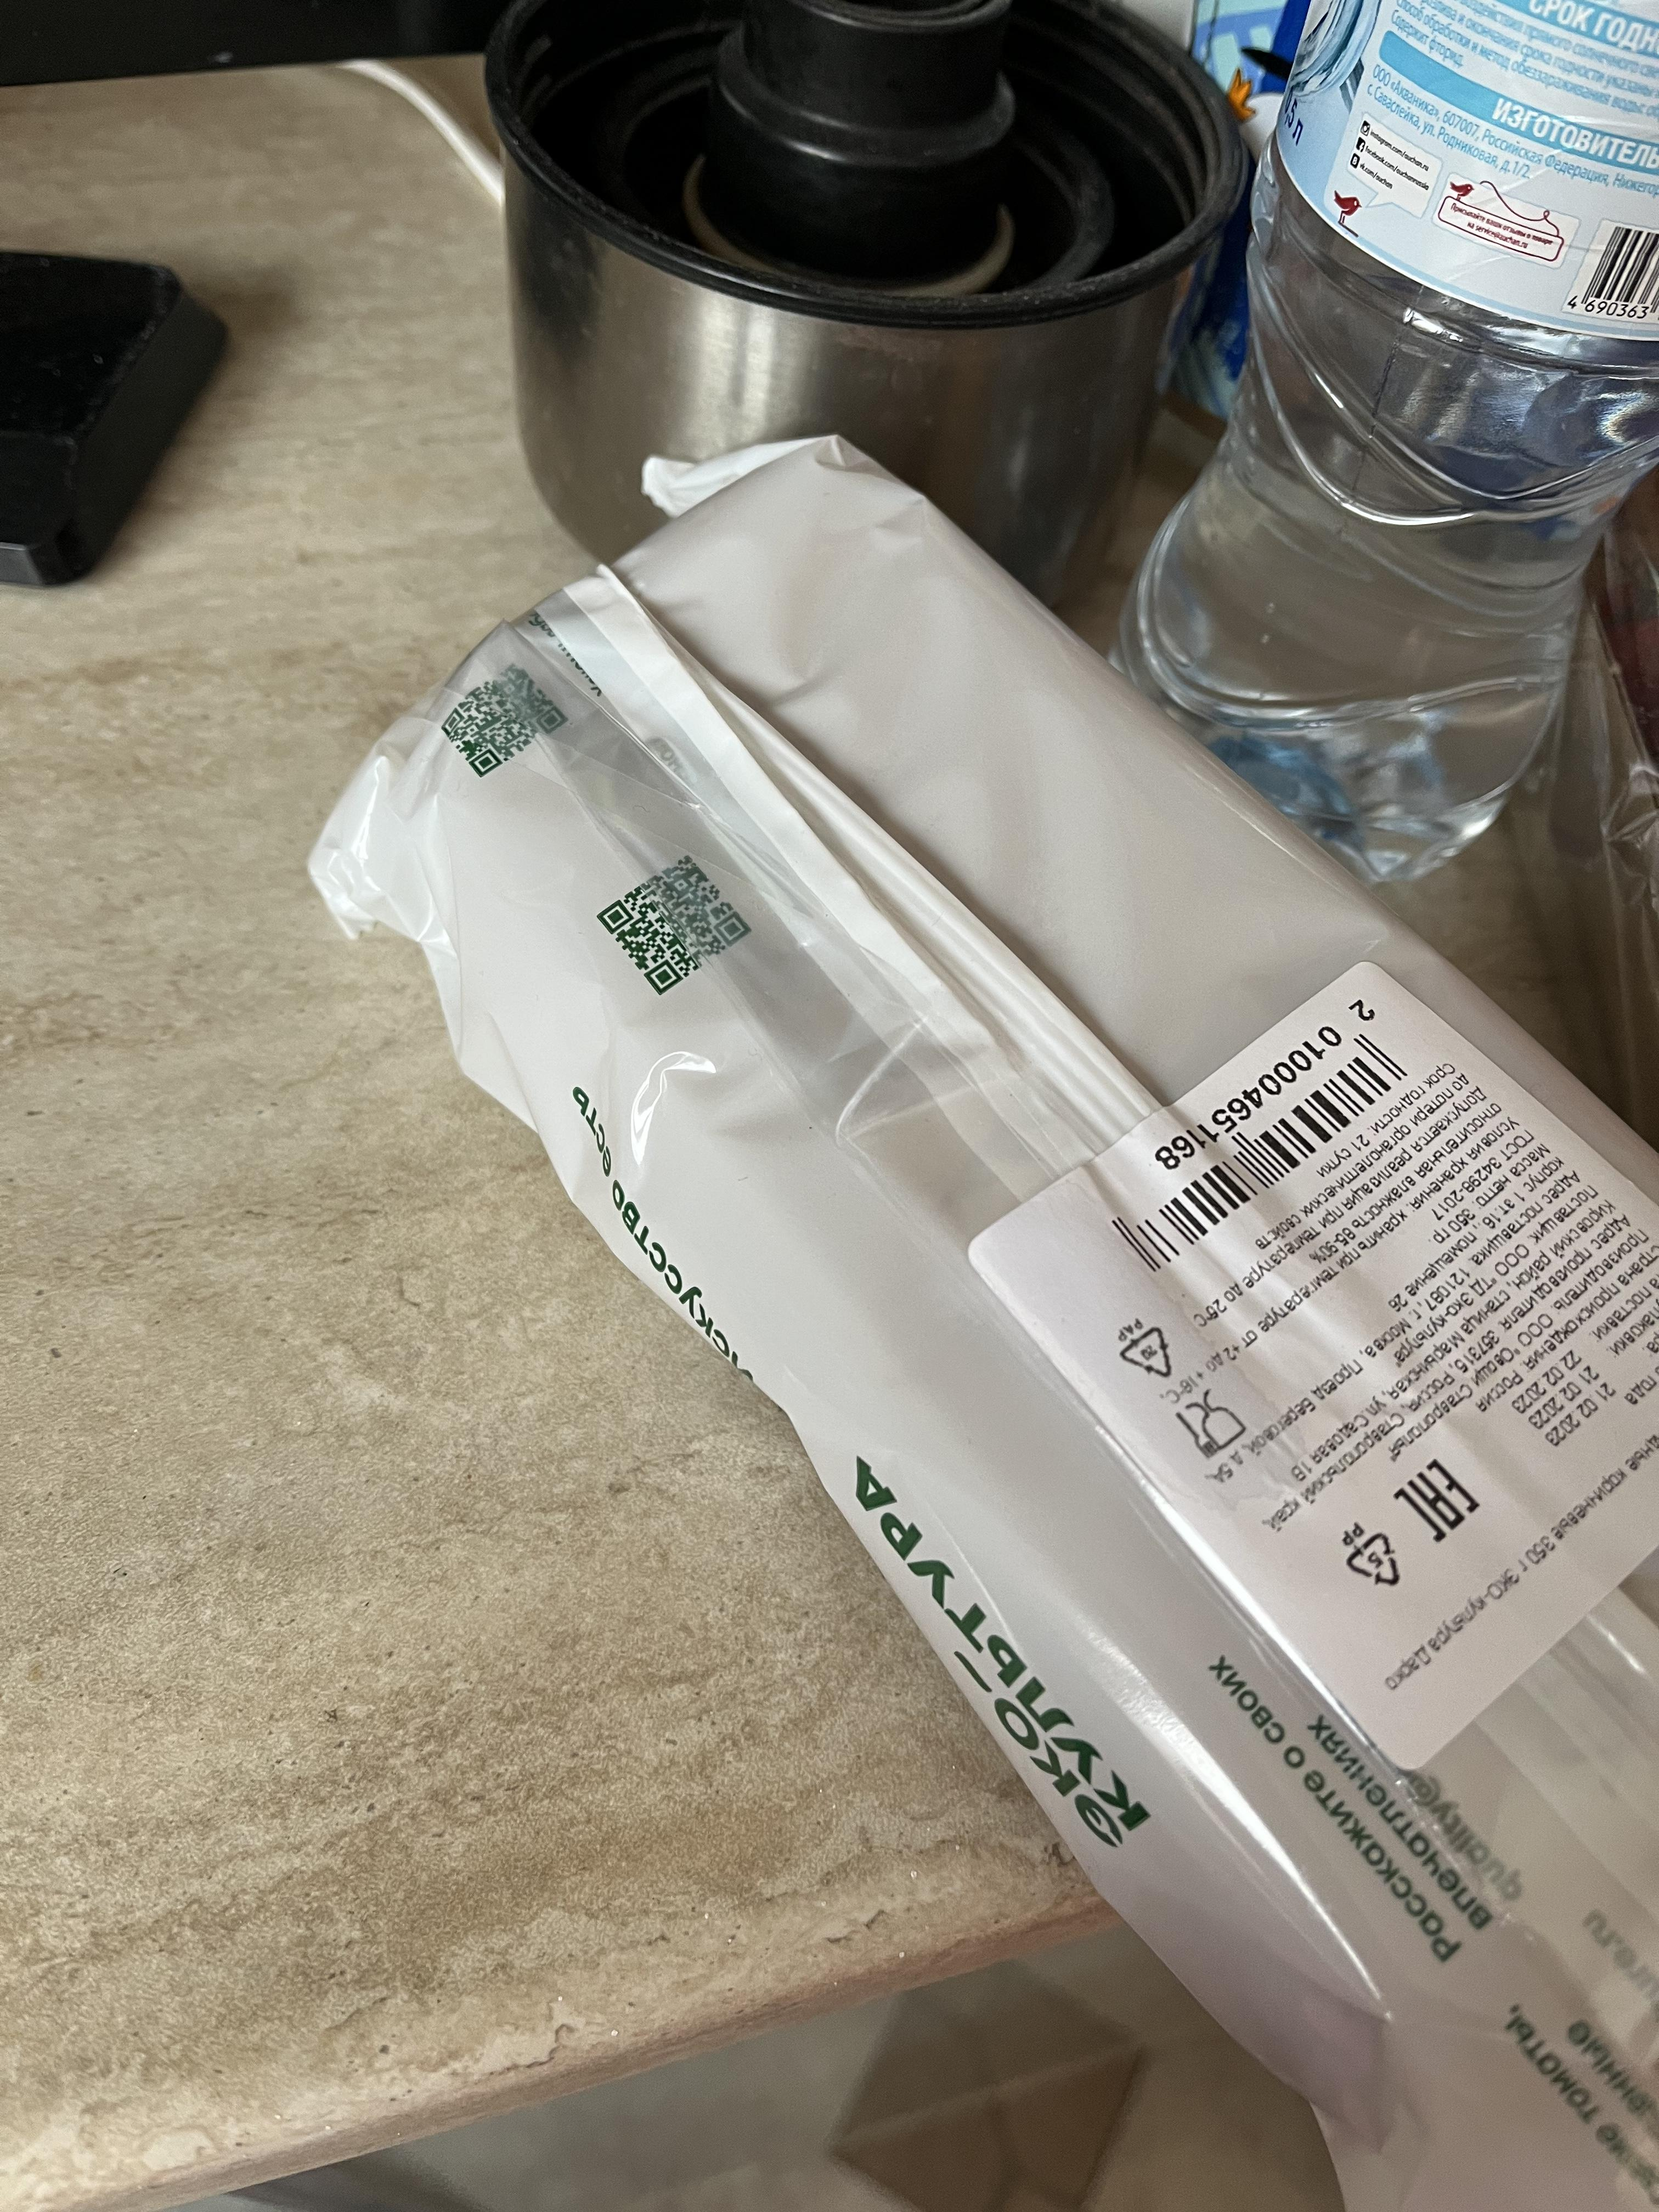qrcode: (596, 857, 753, 996), (439, 662, 573, 777)
